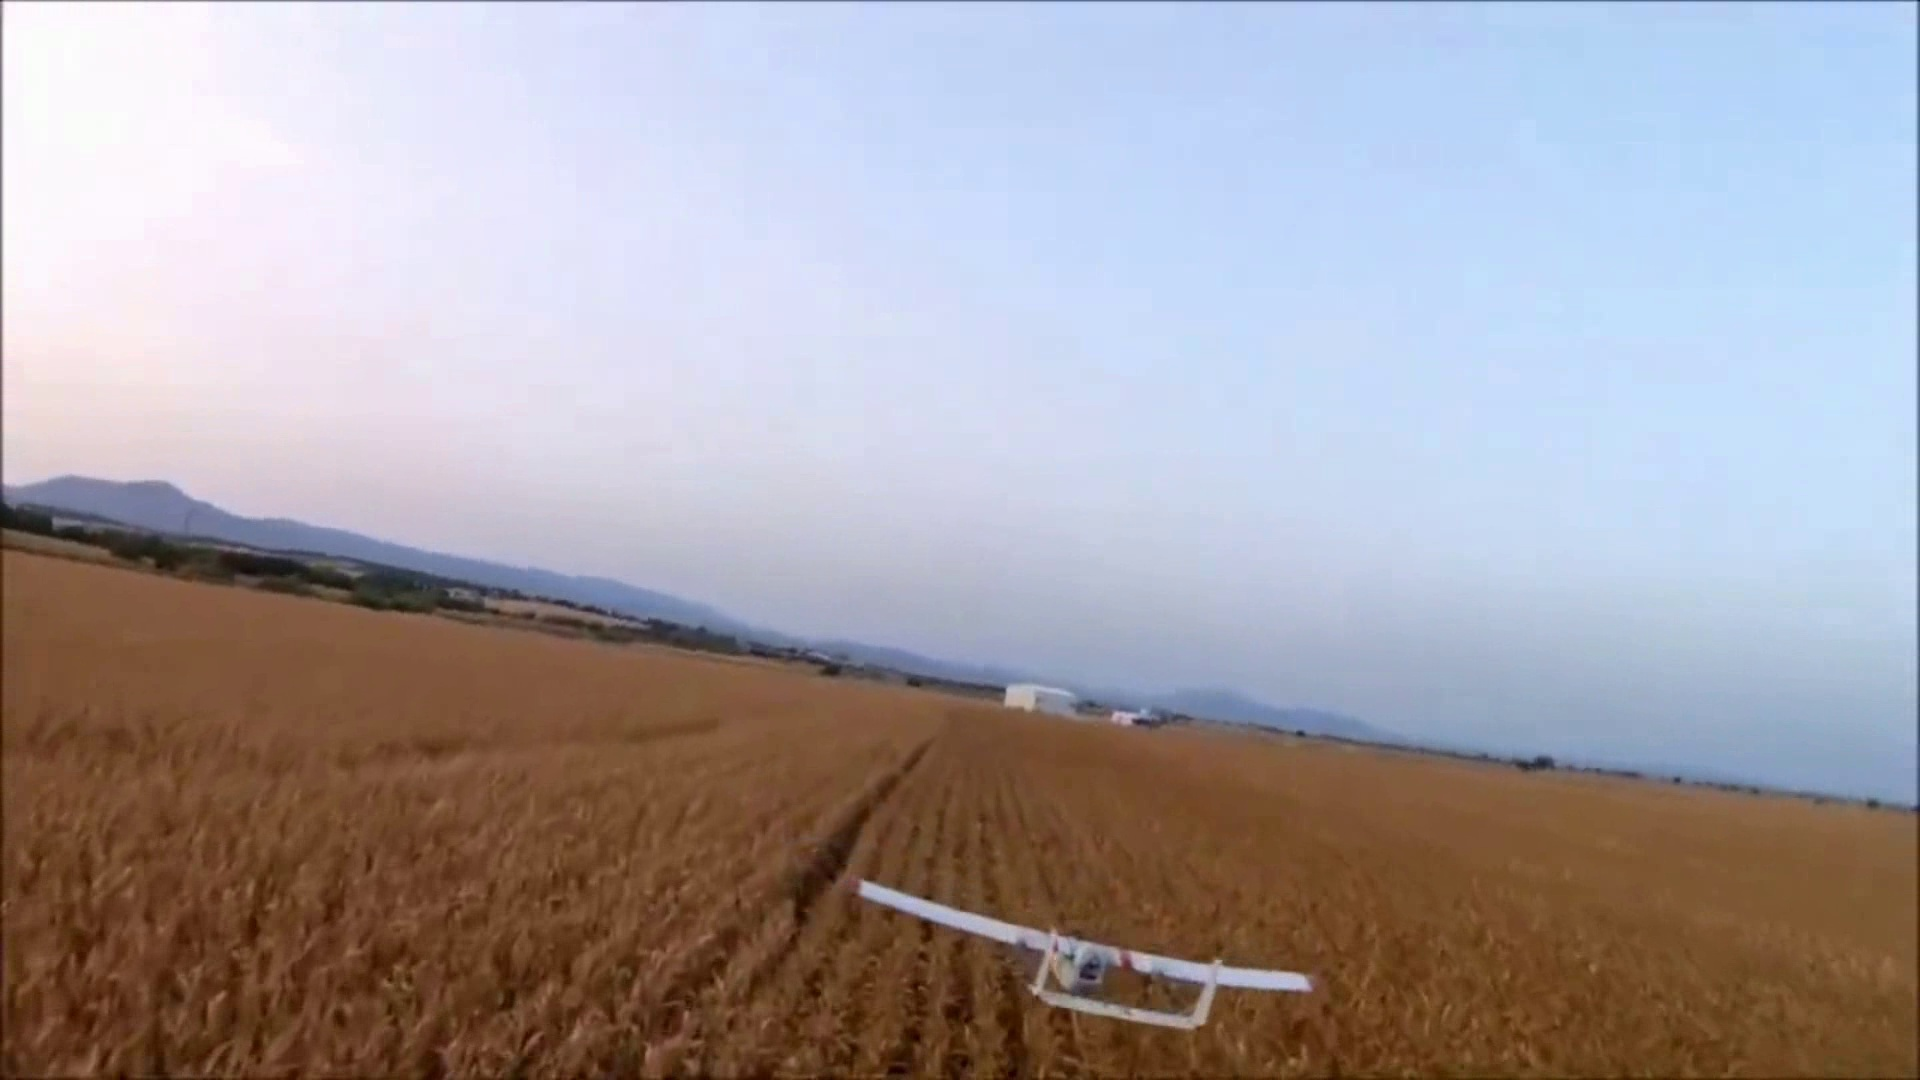airplane: (858, 880, 1316, 1029)
